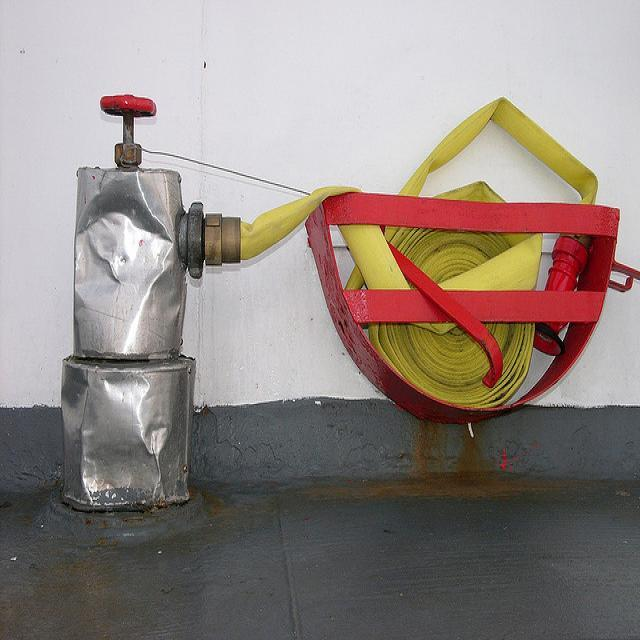fire_hydrant: (61, 94, 209, 510)
